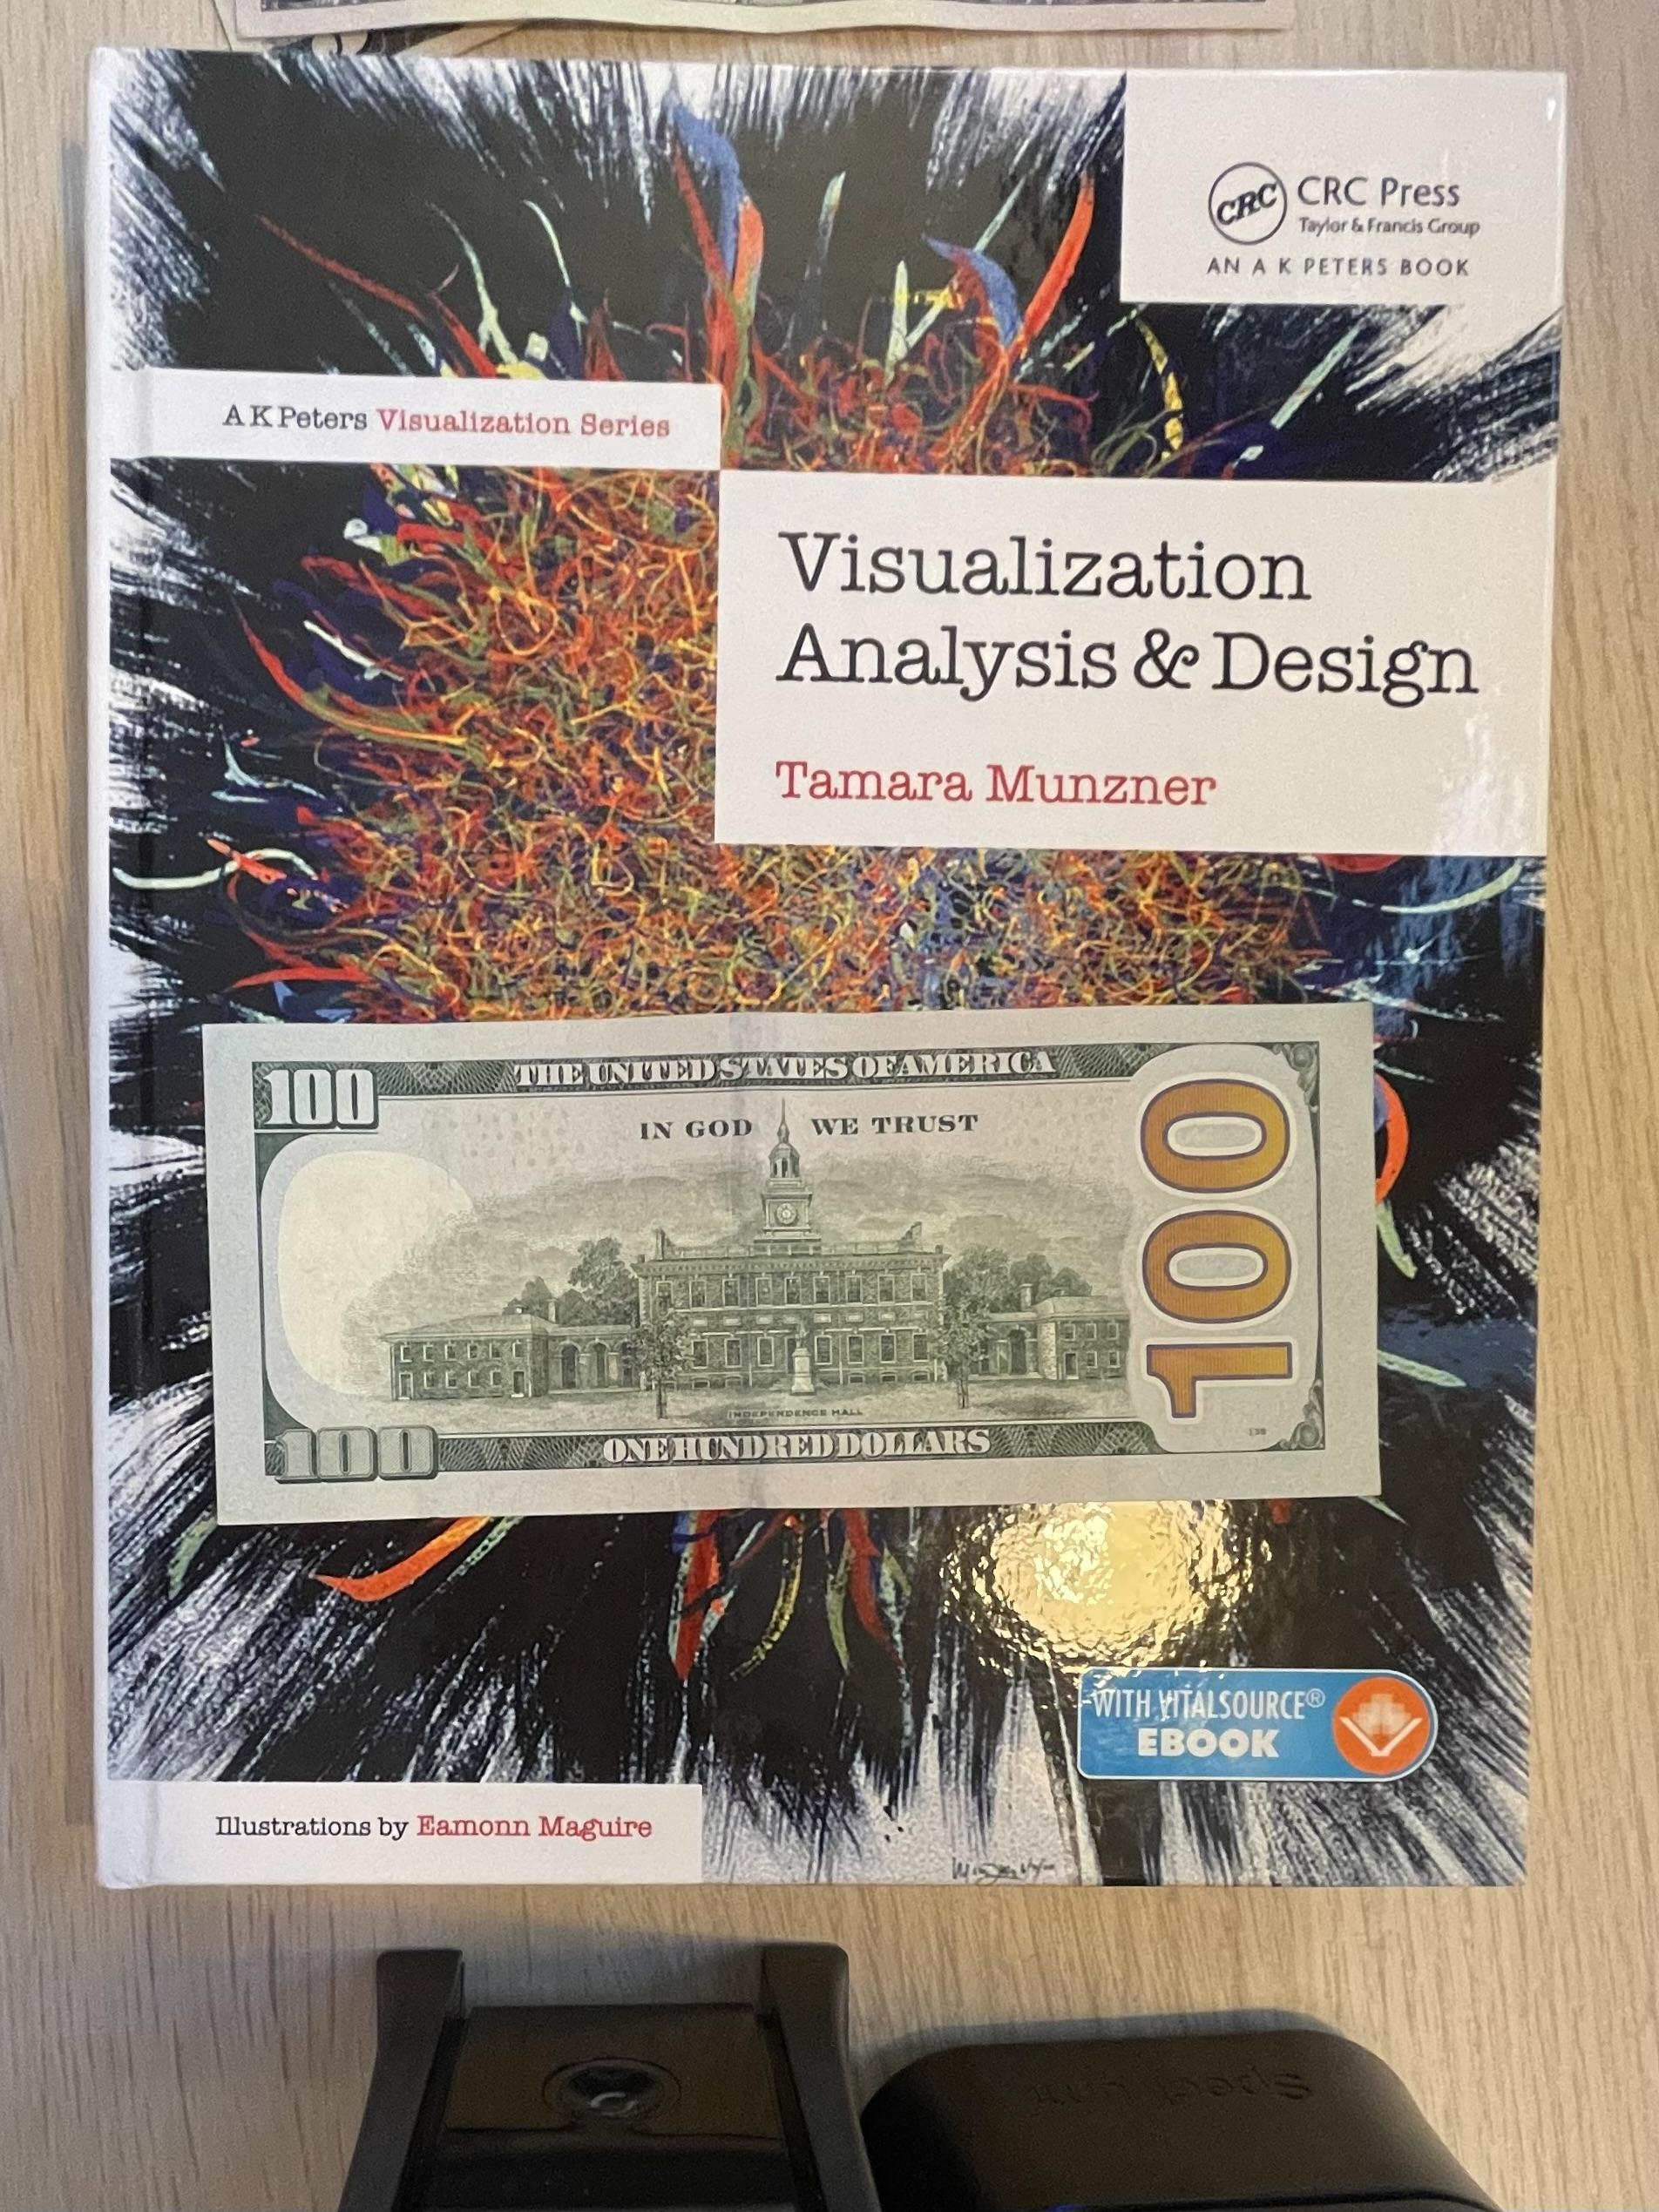HundredBill: (200, 1001, 1384, 1527)
